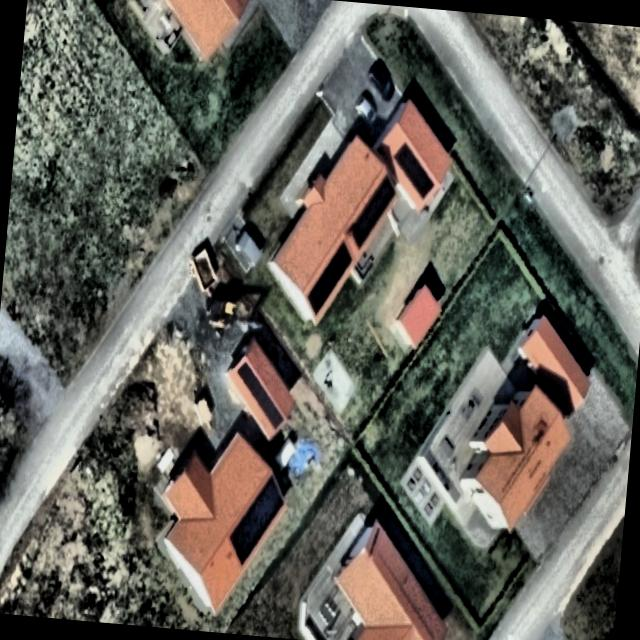roof_pv: (226, 504, 264, 571), (247, 474, 286, 537), (364, 172, 398, 225), (252, 388, 288, 432), (390, 139, 420, 180), (303, 274, 329, 320), (348, 207, 374, 252), (233, 358, 263, 396), (411, 157, 436, 200), (322, 255, 342, 302), (332, 237, 356, 276)
